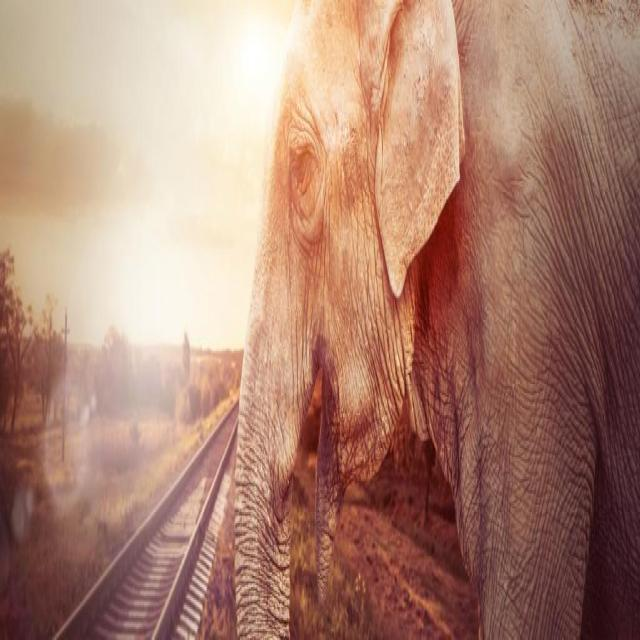Elephant: (233, 3, 640, 640)
